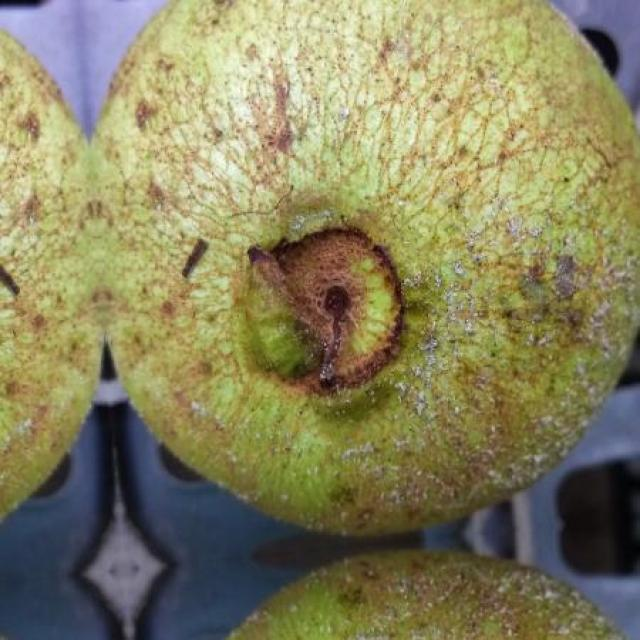Scab: (0, 0, 640, 533), (226, 550, 622, 639)
